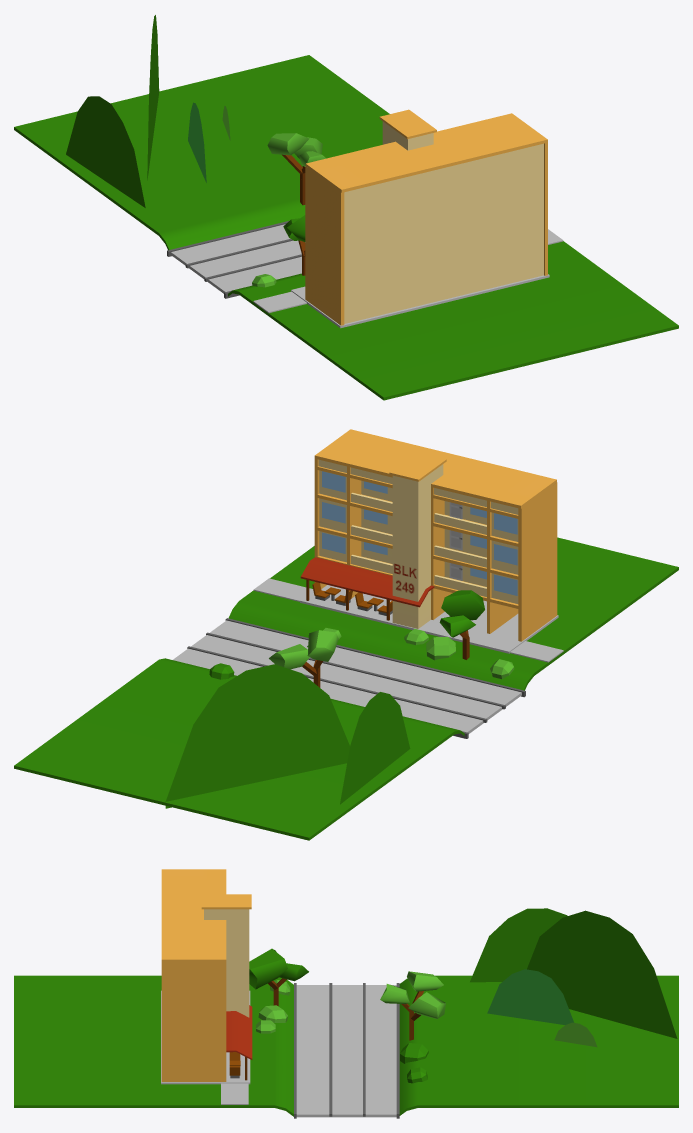
The model's file is Level 2 Chunk 5.fbx.
The picture shows the model from 3 angles, top to bottom: view 1: azimuth 30°, elevation 25°; view 2: azimuth 150°, elevation 25°; view 3: azimuth 270°, elevation 25°; orthographic projection. The views are drawn at different scales.
Parts seen in each view (by area): view 1: pCube7039, pCube7035, pCube7313, pCube7180, pCube7142, pCube7041, pasted__pCube5627, pCube8653, pCube7146, pasted__pasted__pCube5525, pCube7160, pCube7594 (+3 smaller); view 2: pCube7039, pCube7035, pasted__pasted__pCube5525, pCube7041, pCube7180, pCube7142, pCube7155, pCube7156, pasted__pCube5627, pCube7146, pCube7161, pCube8653 (+17 smaller); view 3: pCube7039, pCube7035, pCube7041, pasted__pasted__pCube5525, pCube7150, pCube7180, pasted__pCube5627, pasted__pasted__pCube5524, pCube7155, pCube8653, pCube8654, pCube7161 (+10 smaller).
Part boxes in pixels (x1,y1,x2,y2): pCube7039: [14, 55, 389, 250]; pCube7035: [228, 241, 678, 400]; pCube7313: [344, 143, 543, 323]; pCube7180: [305, 113, 547, 192]; pCube7142: [305, 166, 344, 325]; pCube7041: [171, 224, 301, 293]; pasted__pCube5627: [66, 96, 145, 207]; pCube8653: [267, 133, 325, 205]; pCube7146: [291, 274, 549, 328]; pasted__pasted__pCube5525: [147, 15, 159, 180]; pCube7160: [379, 109, 436, 139]; pCube7594: [253, 229, 563, 313]; pCube7039: [14, 658, 464, 840]; pCube7035: [228, 537, 678, 690]; pasted__pasted__pCube5525: [165, 664, 349, 808]; pCube7041: [173, 620, 521, 733]; pCube7180: [314, 429, 556, 508]; pCube7142: [518, 482, 557, 641]; pCube7155: [392, 464, 443, 628]; pCube7156: [319, 470, 518, 603]; pasted__pCube5627: [340, 692, 410, 804]; pCube7146: [300, 585, 558, 653]; pCube7161: [300, 557, 434, 607]; pCube8653: [269, 628, 341, 687]; pCube7039: [399, 975, 678, 1115]; pCube7035: [14, 975, 293, 1116]; pCube7041: [296, 985, 396, 1117]; pasted__pasted__pCube5525: [527, 910, 677, 1038]; pCube7150: [161, 962, 226, 1081]; pCube7180: [161, 869, 226, 962]; pasted__pCube5627: [470, 908, 567, 982]; pasted__pasted__pCube5524: [487, 969, 574, 1024]; pCube7155: [204, 909, 249, 1017]; pCube8653: [380, 971, 445, 1040]; pCube8654: [249, 948, 308, 1005]; pCube7161: [226, 1005, 252, 1059].
Bounding box in the file's own units: 12.38 × 6.64 × 26.56.
Materials: 1 (1 with a texture image).
